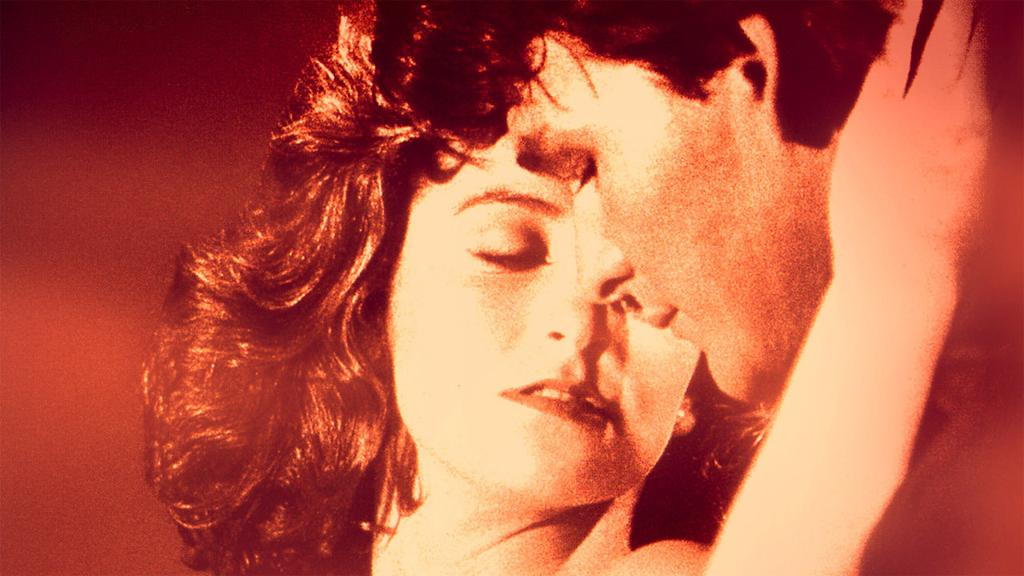face: (390, 110, 660, 504), (512, 36, 784, 400)
